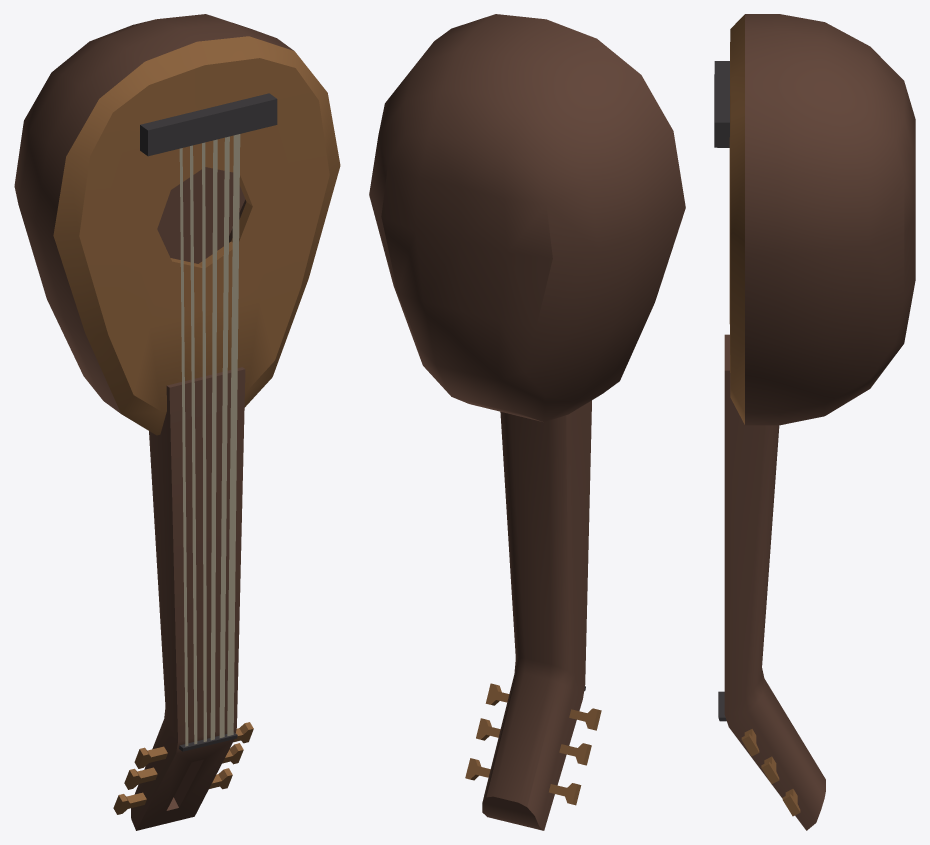
Rendered from Lute.glb.
3 renders of one model, left to right at view 1: azimuth 30°, elevation 25°; view 2: azimuth 150°, elevation 25°; view 3: azimuth 270°, elevation 25°, orthographic. The views are drawn at different scales.
Visible parts, largest first — view 1: Weapon_Lute; view 2: Weapon_Lute; view 3: Weapon_Lute.
Boxes of the visible parts, x1=… form: Weapon_Lute: x1=14, y1=14, x2=340, y2=830; Weapon_Lute: x1=369, y1=14, x2=685, y2=830; Weapon_Lute: x1=714, y1=14, x2=915, y2=830.
Size of the model in its own units: 0.4987 by 1.33 by 0.3096.
Materials: 1 (1 with a texture image).
